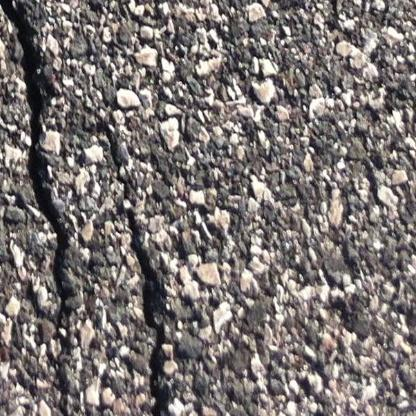Cracks: (78, 115, 174, 416), (0, 0, 75, 341)
